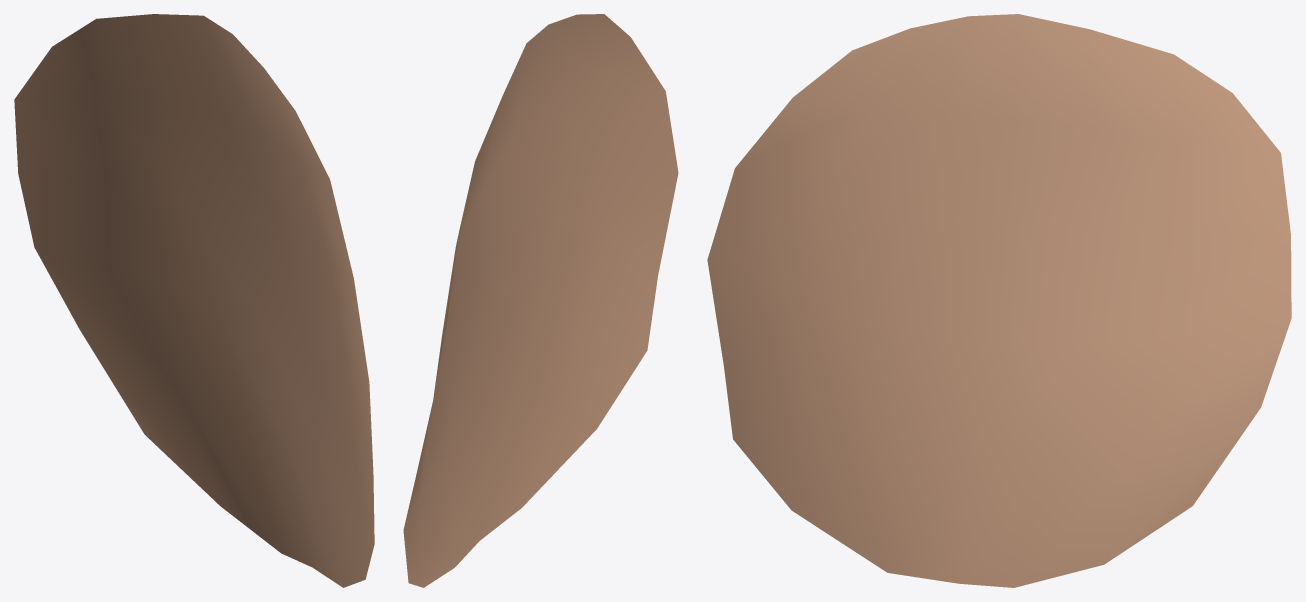
Rendered from hip-region-l.glb.
3 renders of one model, left to right at view 1: azimuth 30°, elevation 25°; view 2: azimuth 150°, elevation 25°; view 3: azimuth 270°, elevation 25°, orthographic. The views are drawn at different scales.
Parts seen in each view (by area): view 1: Hip region.l; view 2: Hip region.l; view 3: Hip region.l.
Part boxes in pixels (bbox=[...]): Hip region.l: bbox=[14, 14, 374, 587]; Hip region.l: bbox=[403, 14, 678, 587]; Hip region.l: bbox=[707, 14, 1291, 587].
Size of the model in its own units: 0.027 by 0.108 by 0.1062.
